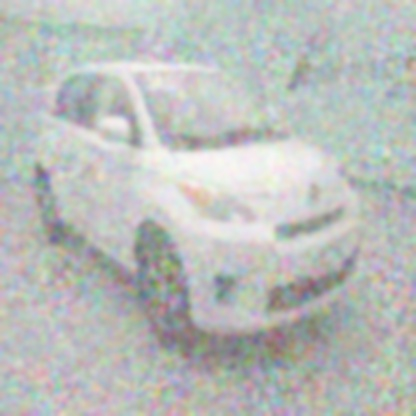Vehicle: (34, 62, 366, 352)
